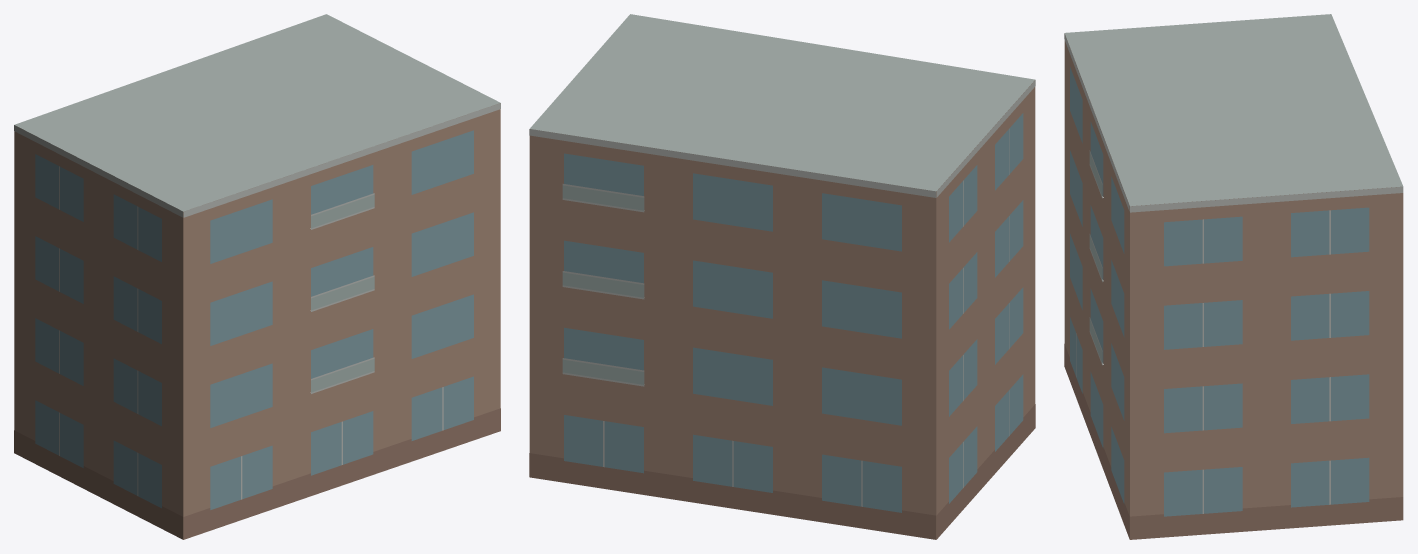
File: survey-upis-32579641.glb
3 renders of one model, left to right at view 1: azimuth 30°, elevation 25°; view 2: azimuth 150°, elevation 25°; view 3: azimuth 270°, elevation 25°, orthographic. The views are drawn at different scales.
Parts seen in each view (by area): view 1: survey-upis-32579641.tmp; view 2: survey-upis-32579641.tmp; view 3: survey-upis-32579641.tmp.
Part boxes in pixels (box(x1,y1,x2,y2)): survey-upis-32579641.tmp: box(14, 14, 500, 539); survey-upis-32579641.tmp: box(529, 14, 1035, 539); survey-upis-32579641.tmp: box(1064, 14, 1403, 539).
Size of the model in its own units: 15.83 by 12.8 by 11.8.
